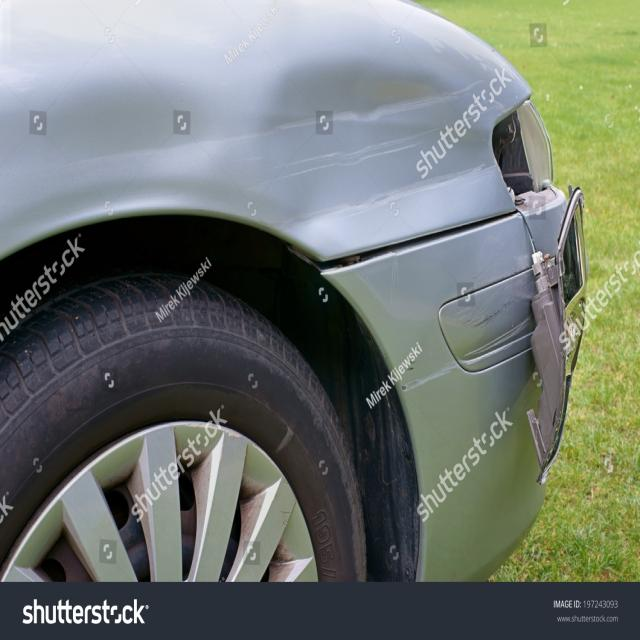crush: (0, 49, 586, 478)
